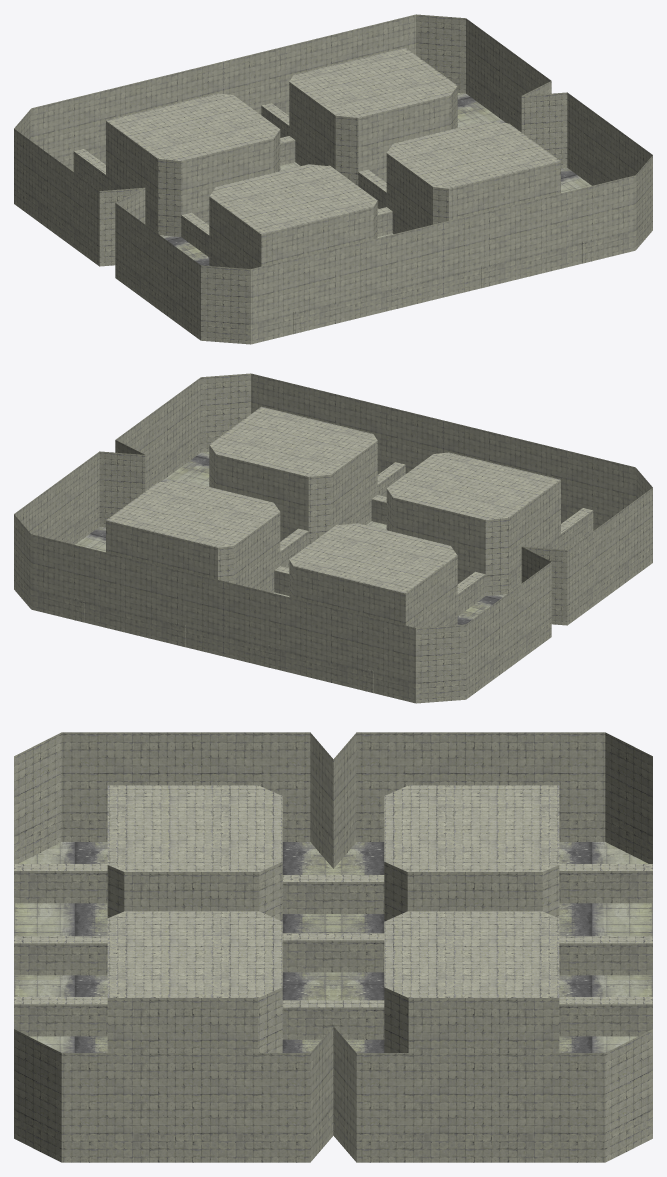
Rendered from SM_TheSamePlace_01_Block_00.fbx.
The picture shows the model from 3 angles, top to bottom: view 1: azimuth 30°, elevation 25°; view 2: azimuth 150°, elevation 25°; view 3: azimuth 270°, elevation 25°; orthographic projection. The views are drawn at different scales.
Parts seen in each view (by area): view 1: SM_TheSamePlace_01_Block_00; view 2: SM_TheSamePlace_01_Block_00; view 3: SM_TheSamePlace_01_Block_00.
Part boxes in pixels (left/top/right/bottom): SM_TheSamePlace_01_Block_00: left=14, top=14, right=652, bottom=344; SM_TheSamePlace_01_Block_00: left=14, top=373, right=652, bottom=703; SM_TheSamePlace_01_Block_00: left=14, top=732, right=652, bottom=1162.
Size of the model in its own units: 4286 by 689 by 3608.
